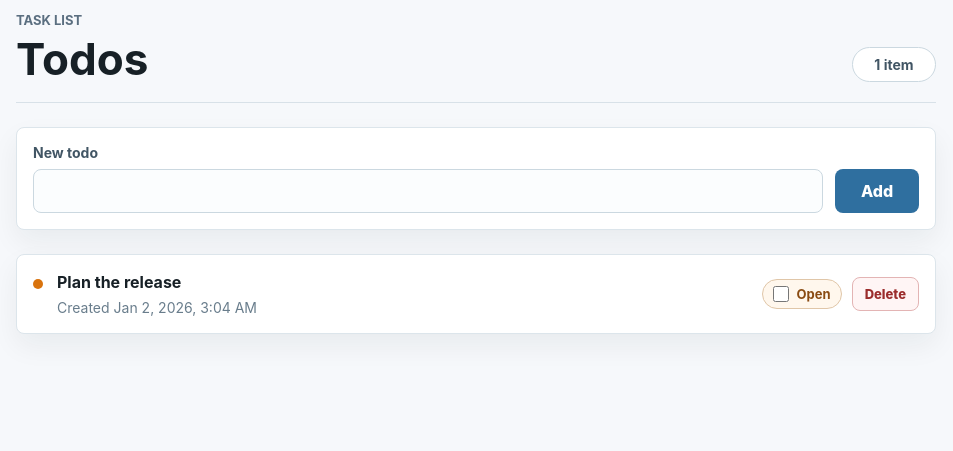
Scenario: TodoList › deletes a todo and refreshes the list
Expected: the text "Plan the release" is shown, x1=57 y1=272 x2=181 y2=292
Click the button "Delete": point(885, 294) x1=852 y1=277 x2=919 y2=311
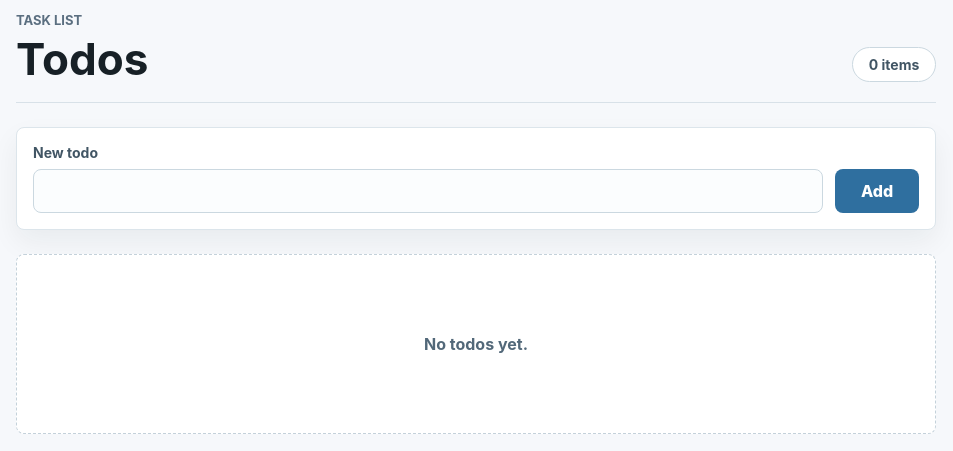
Expected: the text "No todos yet." is shown, x1=424 y1=334 x2=528 y2=354
